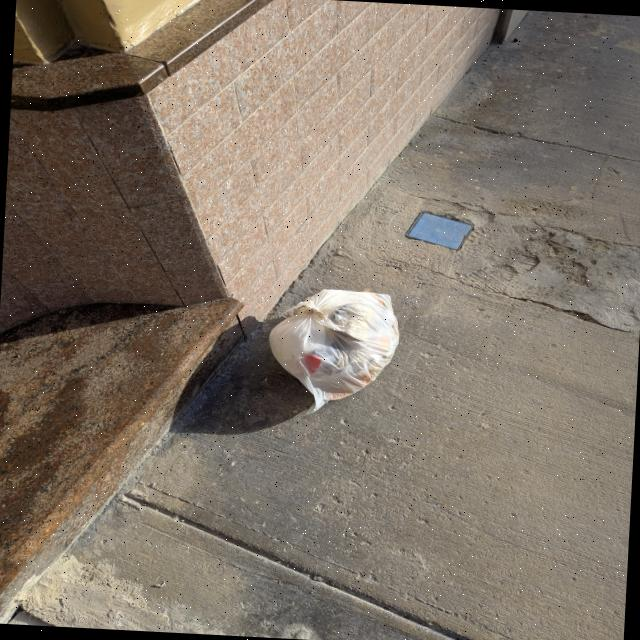Organic Waste: (264, 287, 400, 421)
